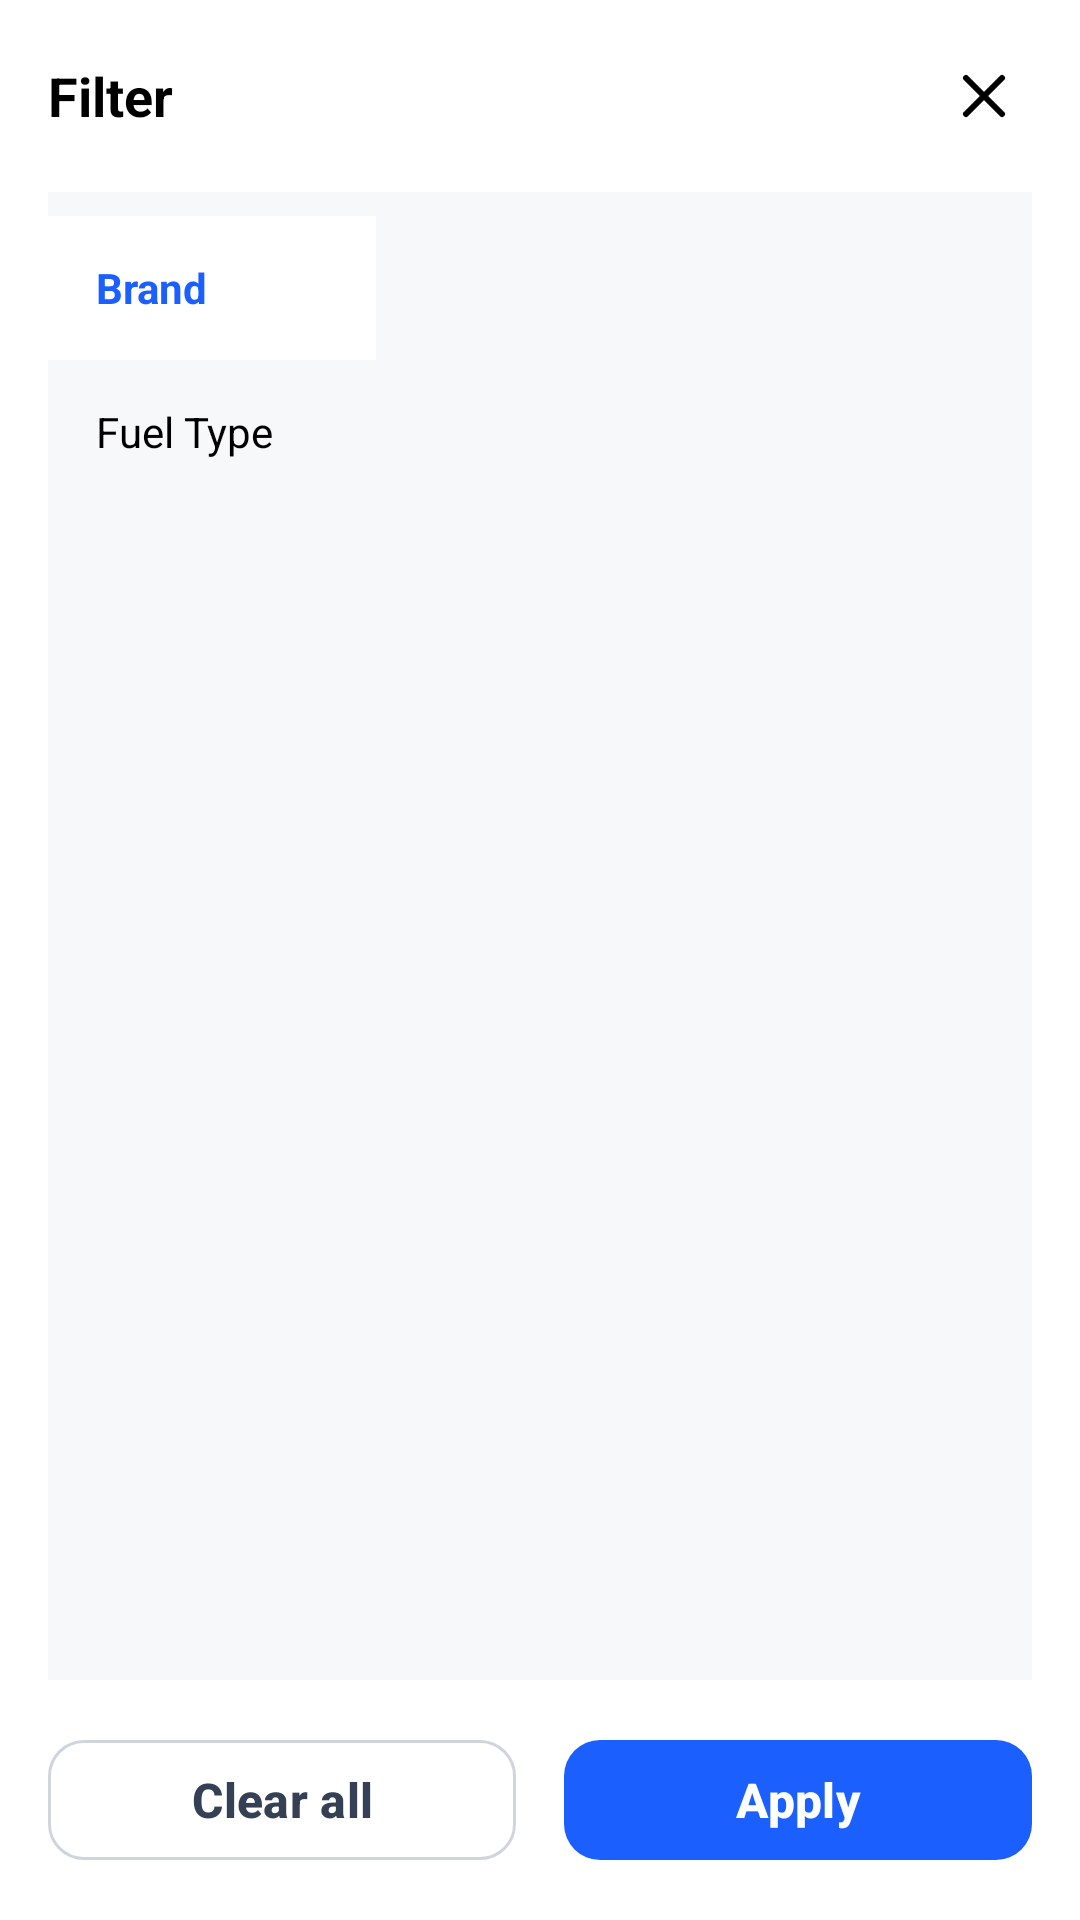

Screen size 1080*1920. Icon name, then its box in pixels as [x1, y1, x2, y2]:
Close: [963, 75, 1005, 117]
